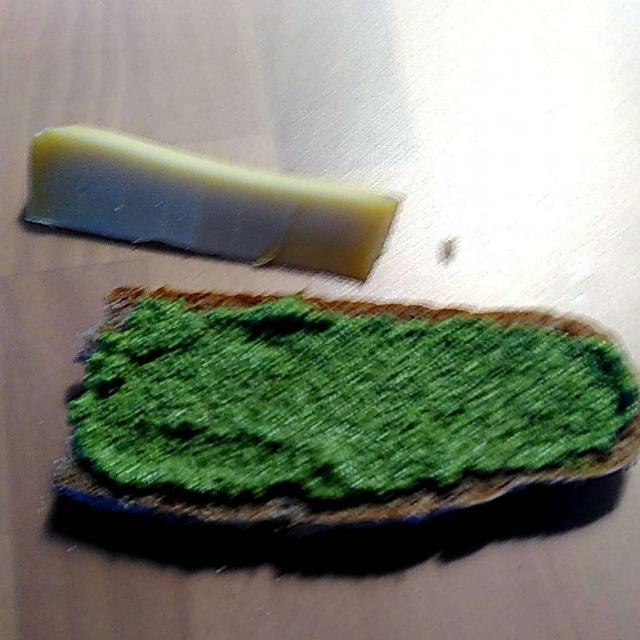bread: (55, 283, 638, 507)
gruyere: (27, 123, 391, 273)
sauce: (71, 291, 623, 509)
